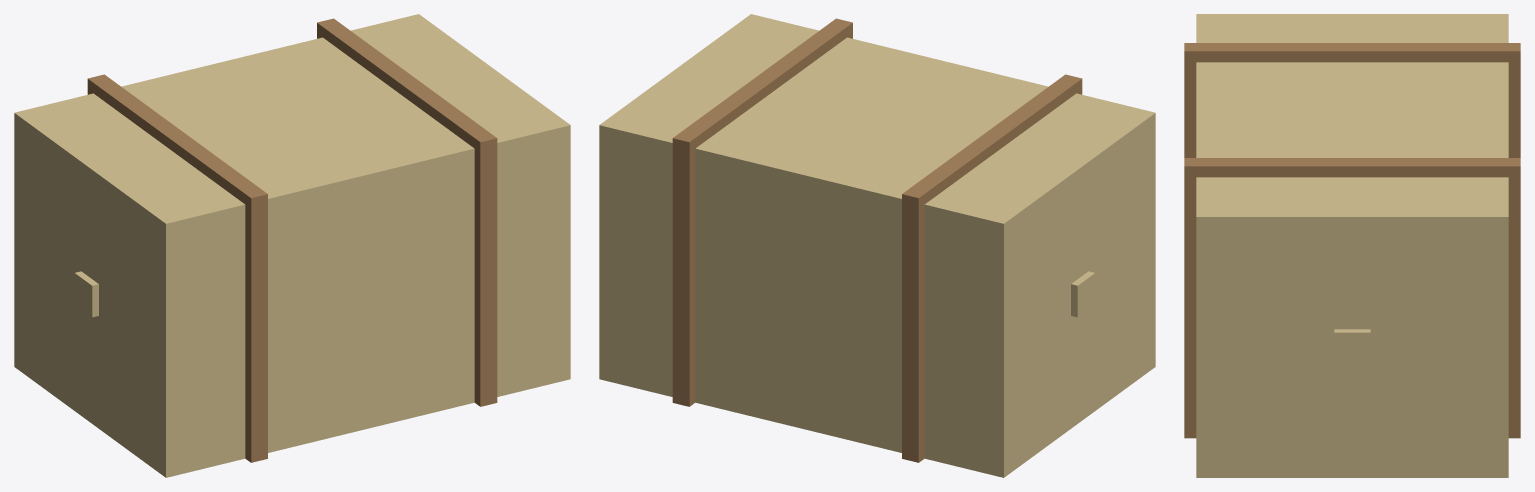
File: hay-bale.glb
3 renders of one model, left to right at view 1: azimuth 30°, elevation 25°; view 2: azimuth 150°, elevation 25°; view 3: azimuth 270°, elevation 25°, orthographic. The views are drawn at different scales.
Visible parts, largest first — view 1: hay-bale; view 2: hay-bale; view 3: hay-bale.
Boxes of the visible parts, x1,y1,x2,y2 form: hay-bale: [14, 14, 570, 477]; hay-bale: [599, 14, 1155, 477]; hay-bale: [1184, 14, 1520, 477].
Bounding box in the file's own units: 1.24 × 0.75 × 0.84.
